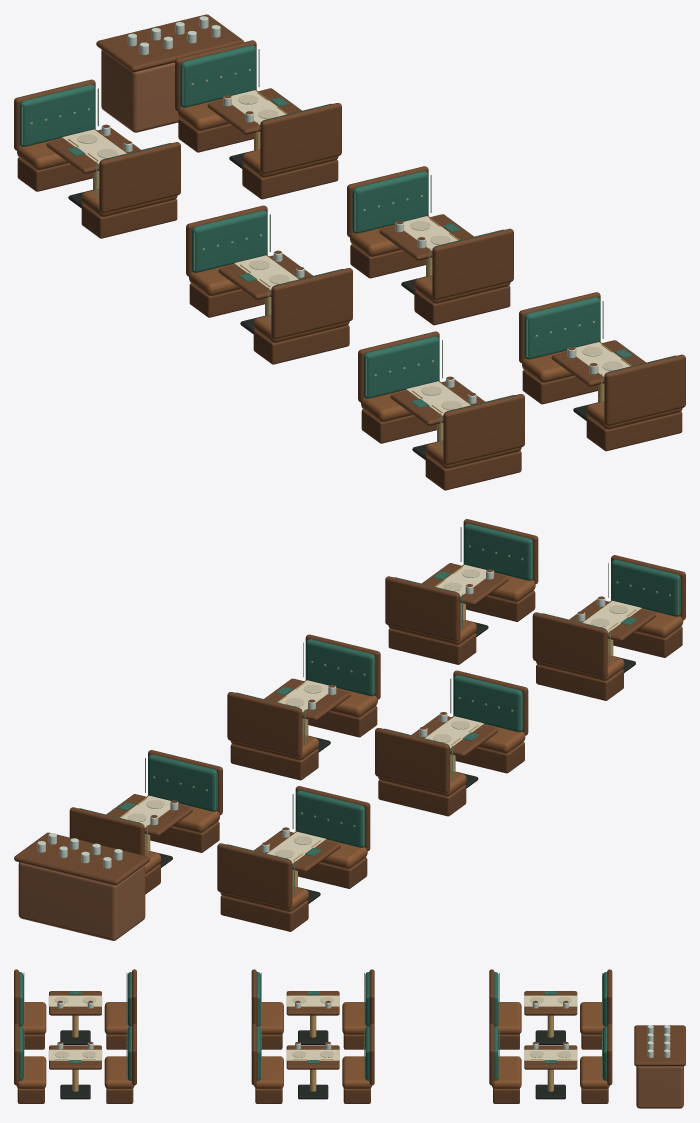
File: DiningFurnishings.fbx
The picture shows the model from 3 angles, top to bottom: view 1: azimuth 30°, elevation 25°; view 2: azimuth 150°, elevation 25°; view 3: azimuth 270°, elevation 25°; orthographic projection. The views are drawn at different scales.
Visible parts, largest first — view 1: Dining / service counter, Dining / wood back.006, Dining / wood back.002, Dining / wood back.010, Dining / wood back.008, Dining / wood back, Dining / wood back.004, Dining / counter top, Dining / upholstered back.001, Dining / upholstered back.009, Dining / upholstered back.005, Dining / upholstered back.003 (+35 smaller); view 2: Dining / service counter, Dining / wood back.003, Dining / wood back.001, Dining / wood back.009, Dining / wood back.007, Dining / wood back.005, Dining / counter top, Dining / upholstered back.008, Dining / upholstered back.004, Dining / upholstered back.006, Dining / upholstered back.002, Dining / upholstered back (+31 smaller); view 3: Dining / service counter, Dining / counter top, Dining / buttoned leather seat.010, Dining / buttoned leather seat.007, Dining / buttoned leather seat.003, Dining / buttoned leather seat.002, Dining / buttoned leather seat.006, Dining / buttoned leather seat.005, Dining / buttoned leather seat.008, Dining / buttoned leather seat.001, Dining / buttoned leather seat.011, Dining / buttoned leather seat (+56 smaller).
Part boxes in pixels (x1,y1,x2,y2): Dining / service counter: [101, 50, 179, 132]; Dining / wood back.006: [432, 228, 513, 299]; Dining / wood back.002: [604, 354, 685, 425]; Dining / wood back.010: [260, 103, 341, 173]; Dining / wood back.008: [99, 142, 180, 213]; Dining / wood back: [443, 394, 524, 464]; Dining / wood back.004: [271, 268, 352, 339]; Dining / counter top: [96, 14, 243, 72]; Dining / upholstered back.001: [363, 336, 439, 398]; Dining / upholstered back.009: [19, 84, 95, 146]; Dining / upholstered back.005: [191, 210, 267, 272]; Dining / upholstered back.003: [524, 297, 600, 359]; Dining / service counter: [18, 862, 145, 940]; Dining / wood back.003: [385, 576, 460, 641]; Dining / wood back.001: [532, 612, 607, 677]; Dining / wood back.009: [217, 843, 292, 908]; Dining / wood back.007: [227, 692, 302, 756]; Dining / wood back.005: [375, 728, 449, 792]; Dining / counter top: [14, 832, 149, 885]; Dining / upholstered back.008: [295, 790, 365, 847]; Dining / upholstered back.004: [453, 675, 523, 732]; Dining / upholstered back.006: [305, 639, 375, 696]; Dining / upholstered back.002: [463, 523, 533, 580]; Dining / upholstered back: [611, 559, 680, 616]; Dining / service counter: [636, 1066, 683, 1108]; Dining / counter top: [634, 1025, 685, 1066]; Dining / buttoned leather seat.010: [491, 1056, 521, 1088]; Dining / buttoned leather seat.007: [342, 1056, 371, 1088]; Dining / buttoned leather seat.003: [104, 1056, 134, 1088]; Dining / buttoned leather seat.002: [16, 1056, 46, 1088]; Dining / buttoned leather seat.006: [254, 1056, 283, 1088]; Dining / buttoned leather seat.005: [342, 1002, 366, 1034]; Dining / buttoned leather seat.008: [497, 1002, 521, 1034]; Dining / buttoned leather seat.001: [104, 1002, 129, 1034]; Dining / buttoned leather seat.011: [580, 1056, 609, 1088]; Dining / buttoned leather seat: [21, 1002, 46, 1034].
Size of the model in its own units: 418 by 135 by 1414.
